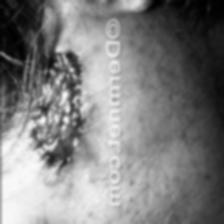Non-Cancerous Skin Condition: (22, 50, 90, 186)
